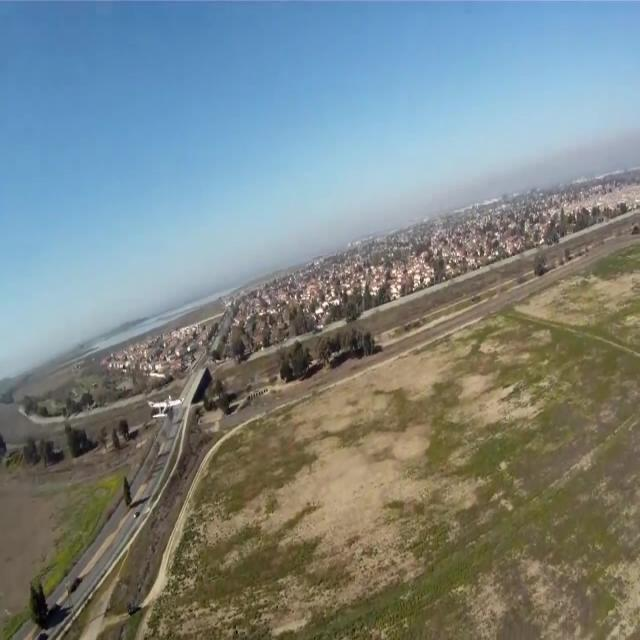iha: (148, 395, 184, 418)
